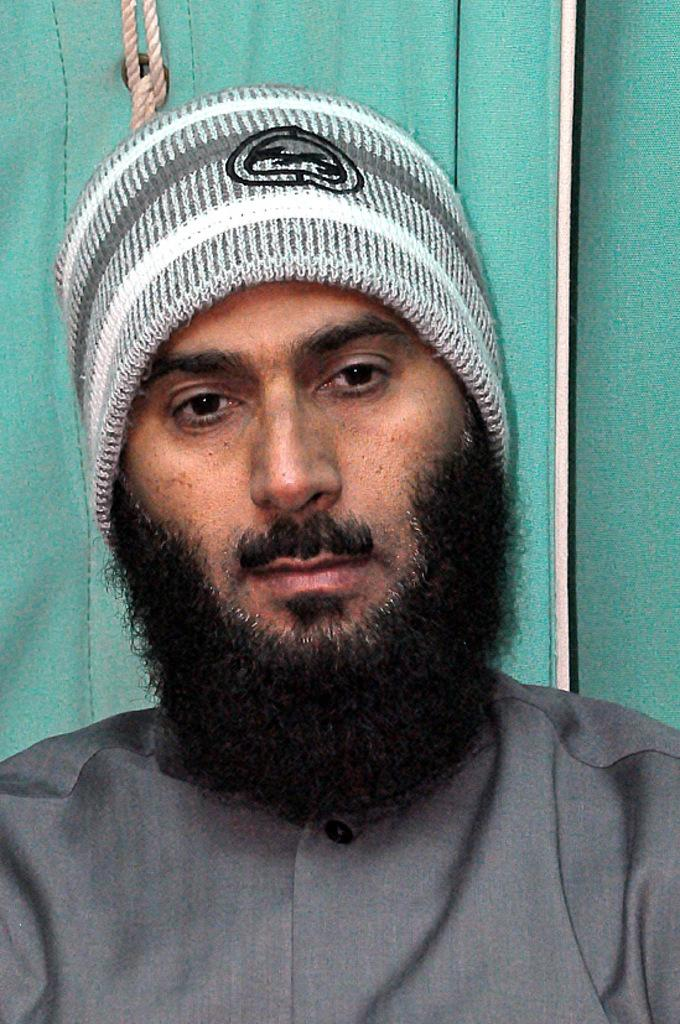Hat: (54, 80, 510, 533)
